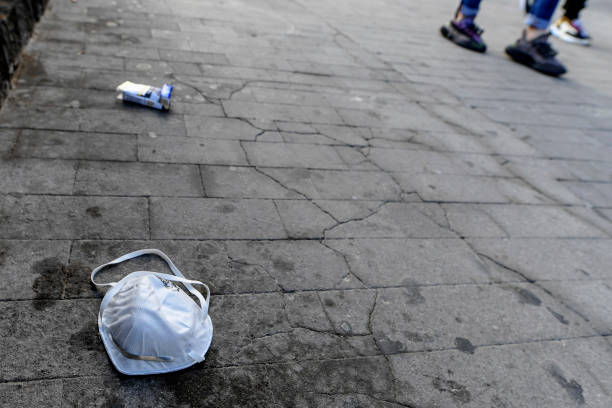General waste: (61, 212, 235, 395)
paper: (98, 73, 195, 120)
